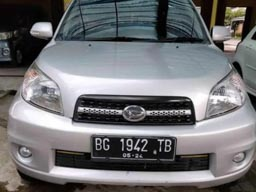plat: (91, 137, 175, 152)
